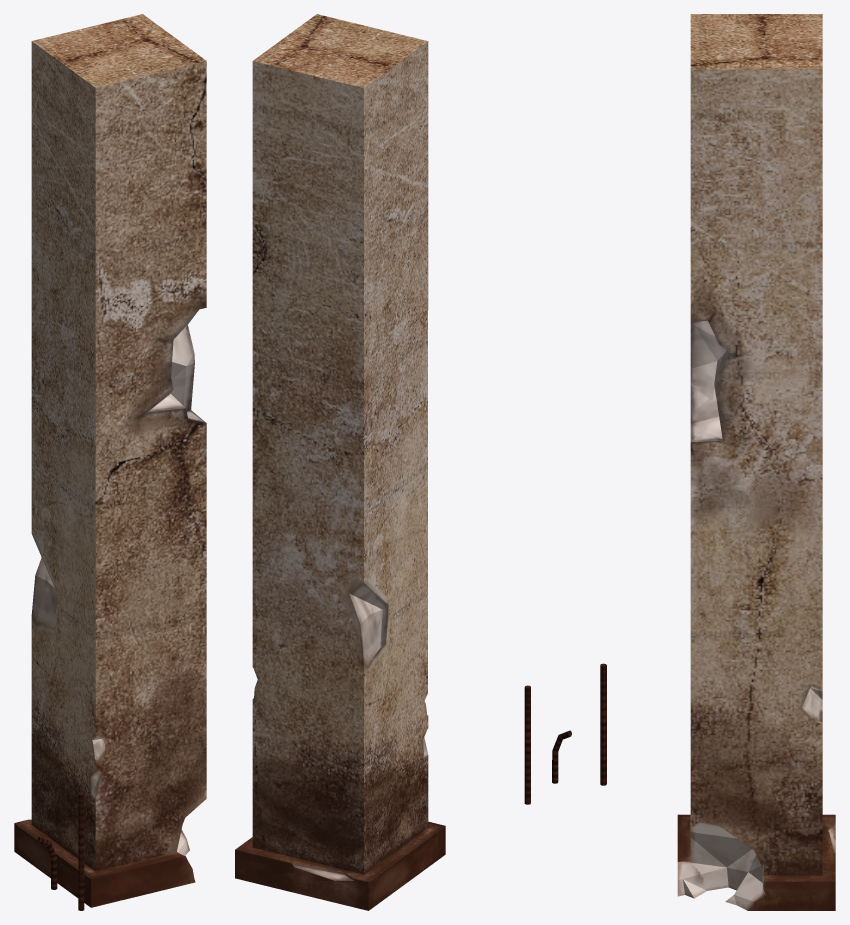
The model's file is basementColumn.fbx.
The picture shows the model from 3 angles, left to right: view 1: azimuth 30°, elevation 25°; view 2: azimuth 150°, elevation 25°; view 3: azimuth 270°, elevation 25°; orthographic projection. The views are drawn at different scales.
Parts seen in each view (by area): view 1: Cube, BezierCurve; view 2: Cube, BezierCurve; view 3: Cube, BezierCurve.
Part boxes in pixels (<box>): Cube: <box>14,14,206,907</box>; BezierCurve: <box>78,792,84,910</box>; Cube: <box>235,14,445,910</box>; BezierCurve: <box>524,685,530,804</box>; Cube: <box>677,14,835,910</box>; BezierCurve: <box>600,663,606,785</box>.
Bounding box in the file's own units: 400 × 1400 × 357.
Materials: 1 (1 with a texture image).
